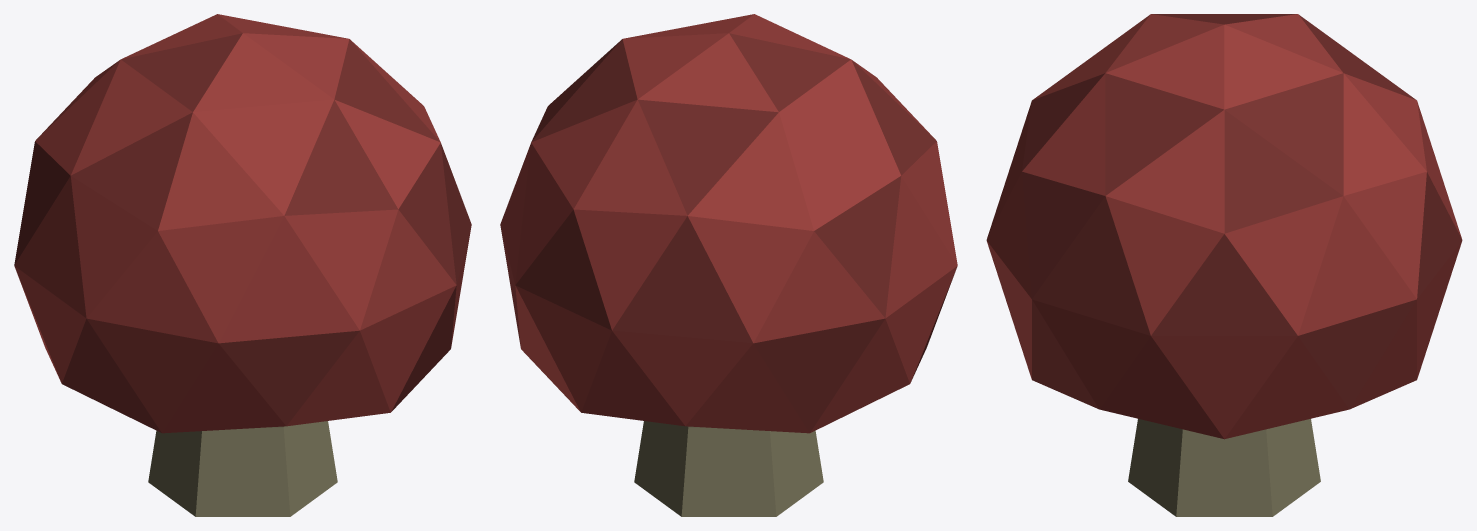
Rendered from Mushroom_1_Red.fbx.
The picture shows the model from 3 angles, left to right: view 1: azimuth 30°, elevation 25°; view 2: azimuth 150°, elevation 25°; view 3: azimuth 270°, elevation 25°; orthographic projection.
Parts seen in each view (by area): view 1: Mushroom_1_Red; view 2: Mushroom_1_Red; view 3: Mushroom_1_Red.
Part boxes in pixels (bbox=[...]): Mushroom_1_Red: bbox=[14, 14, 471, 516]; Mushroom_1_Red: bbox=[500, 14, 957, 516]; Mushroom_1_Red: bbox=[986, 14, 1462, 516].
Bounding box in the file's own units: 46.91 × 52.26 × 49.33.
